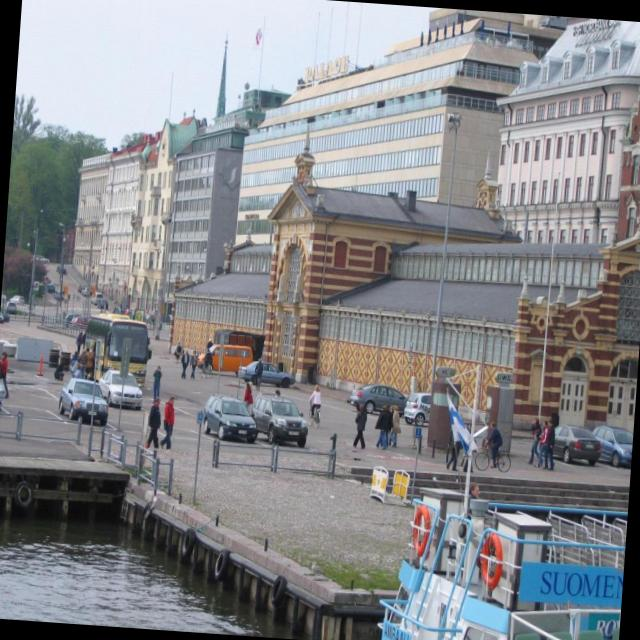bus: (79, 310, 155, 390), (193, 342, 253, 373)
